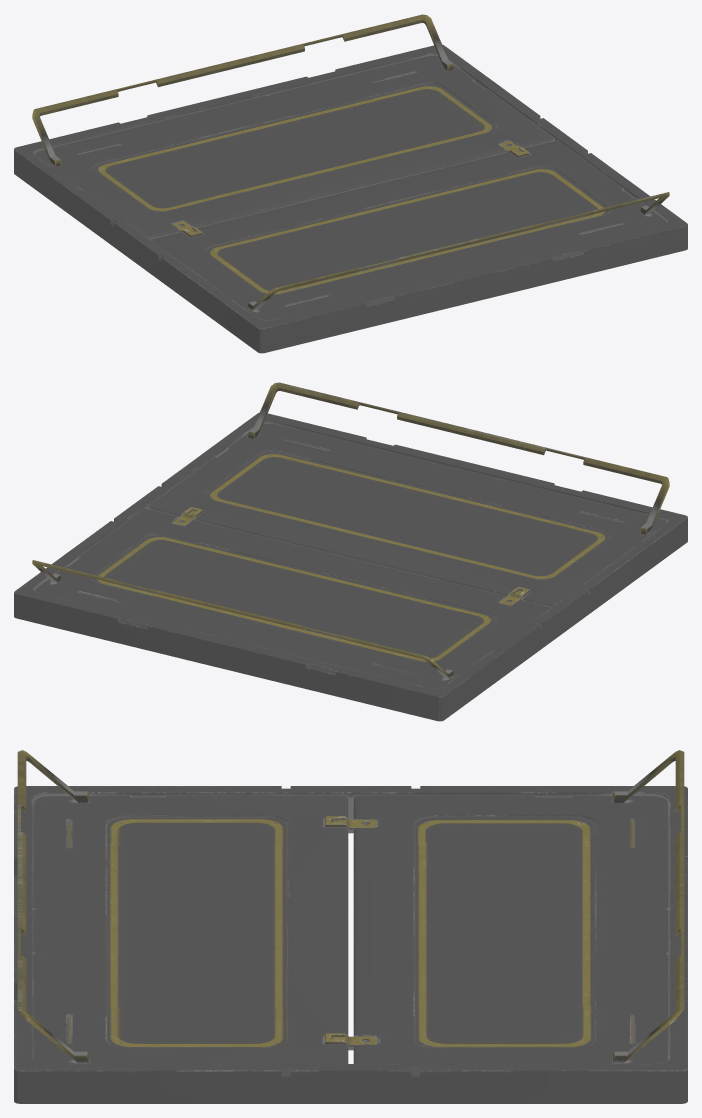
Rendered from floor059-opt.glb.
3 renders of one model, top to bottom at view 1: azimuth 30°, elevation 25°; view 2: azimuth 150°, elevation 25°; view 3: azimuth 270°, elevation 25°, orthographic. The views are drawn at different scales.
Visible parts, largest first — view 1: Slice.059; view 2: Slice.059; view 3: Slice.059.
Boxes of the visible parts, left/top/right/bottom form: Slice.059: left=14, top=14, right=687, bottom=353; Slice.059: left=14, top=382, right=687, bottom=721; Slice.059: left=14, top=750, right=687, bottom=1103.
Bounding box in the file's own units: 3.14 × 0.4315 × 3.14.
1 material, 1 textured.
